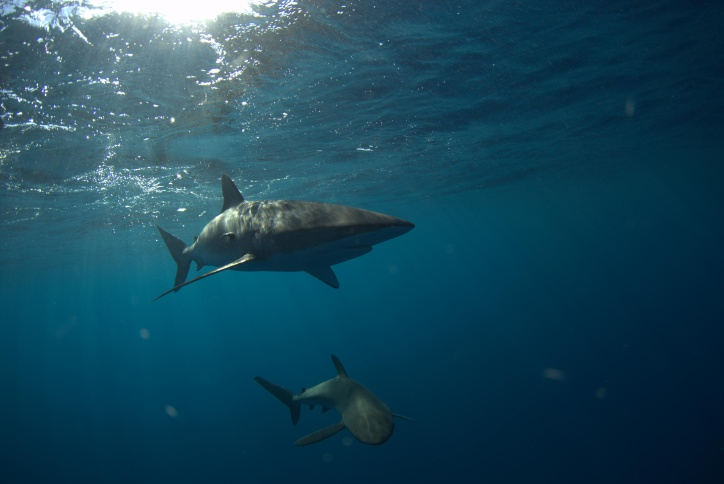Sedoso: (134, 171, 424, 310)
